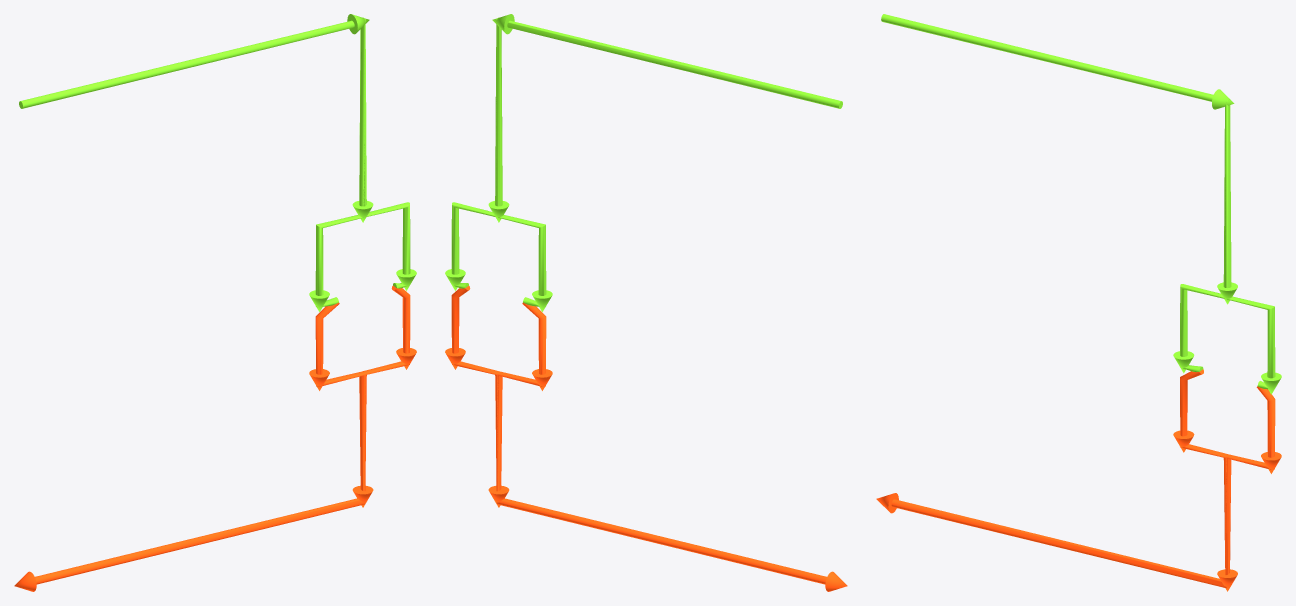
Rendered from reciprocating_compressor_flow.glb.
The picture shows the model from 3 angles, left to right: view 1: azimuth 30°, elevation 25°; view 2: azimuth 150°, elevation 25°; view 3: azimuth 330°, elevation 25°; orthographic projection.
Parts seen in each view (by area): view 1: suction_crank_end, discharge_crank_end, suction_head_end, discharge_head_end; view 2: suction_crank_end, discharge_crank_end, suction_head_end, discharge_head_end; view 3: suction_crank_end, discharge_crank_end, suction_head_end, discharge_head_end.
Part boxes in pixels (box(x1,y1,x2,y2)): suction_crank_end: box(19, 14, 416, 290); discharge_crank_end: box(14, 285, 416, 591); suction_head_end: box(309, 25, 364, 311); discharge_head_end: box(309, 302, 365, 491); suction_crank_end: box(445, 14, 842, 290); discharge_crank_end: box(445, 285, 847, 591); suction_head_end: box(496, 26, 552, 311); discharge_head_end: box(497, 302, 552, 491); suction_crank_end: box(881, 14, 1281, 394); discharge_crank_end: box(876, 386, 1281, 591); suction_head_end: box(1173, 105, 1225, 373); discharge_head_end: box(1173, 369, 1227, 567).
Size of the model in its own units: 0.6926 by 0.8212 by 0.0312.
